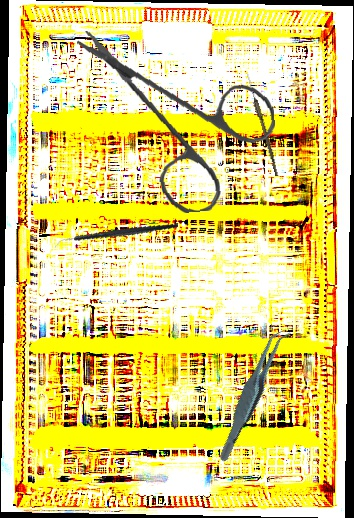Chopper: (54, 197, 179, 275)
Iris Scissors: (76, 15, 282, 221)
Surgical Spoon: (244, 72, 281, 177)
Tissue Forceps: (193, 324, 312, 464)
